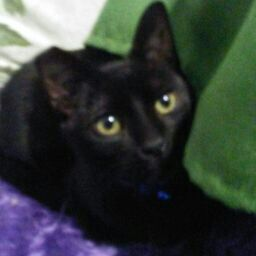cat: (4, 29, 190, 224)
